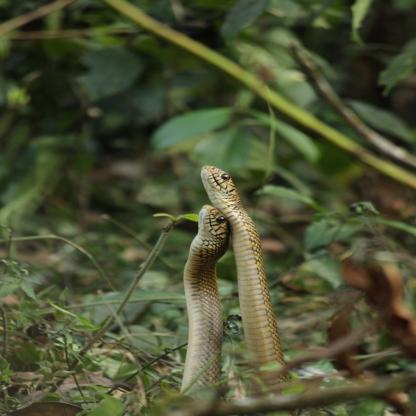Snake: (169, 153, 299, 416), (226, 223, 288, 380), (187, 202, 228, 416), (198, 158, 242, 212)
